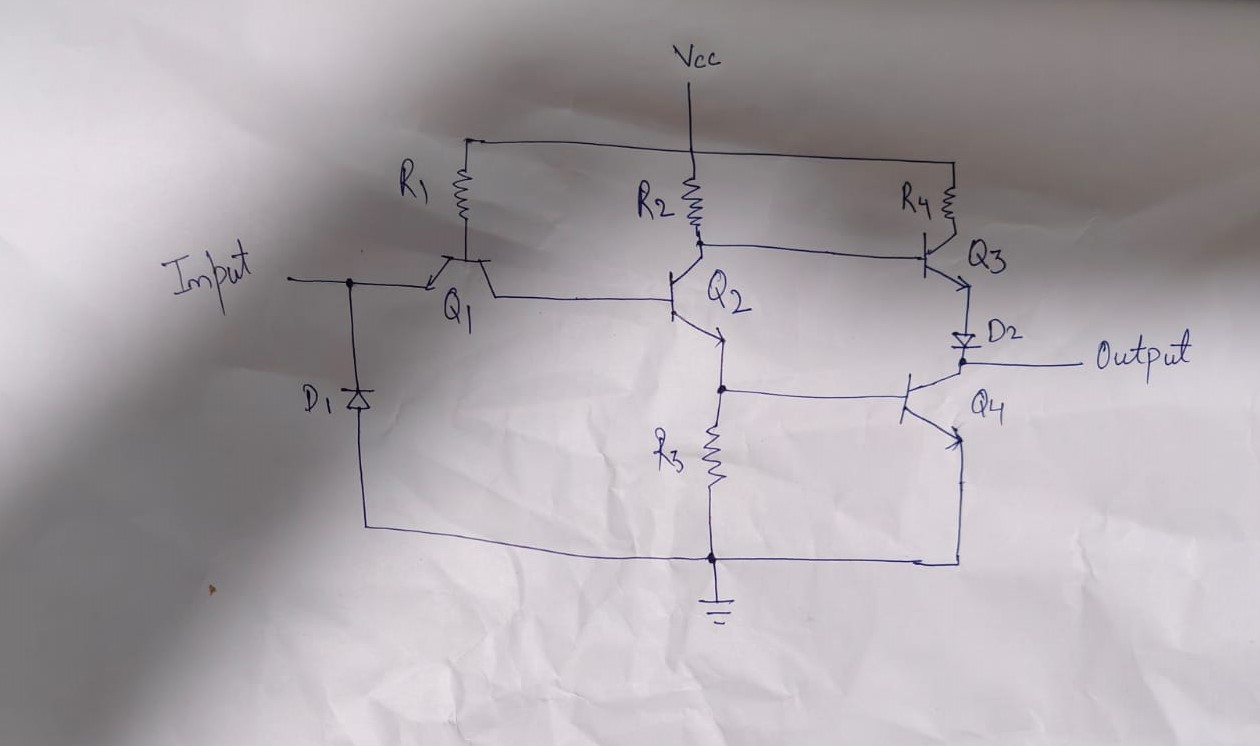crossover: (685, 144, 699, 158)
diode: (339, 386, 377, 412), (946, 328, 984, 352)
gnd: (695, 595, 739, 627)
junction: (702, 549, 720, 567), (713, 379, 731, 397), (458, 132, 476, 148), (341, 274, 357, 290), (949, 555, 965, 571), (691, 236, 707, 250), (358, 519, 372, 533), (956, 355, 970, 369), (947, 156, 959, 168)
resistor: (699, 421, 727, 489), (680, 171, 706, 229), (451, 164, 473, 220), (940, 182, 958, 222)
terminal: (278, 268, 306, 288), (1071, 355, 1087, 369), (683, 78, 696, 90)
text: (159, 235, 259, 309), (1096, 329, 1194, 379), (706, 269, 752, 317), (396, 156, 432, 208), (649, 425, 685, 477), (440, 283, 474, 335), (670, 39, 724, 71), (635, 177, 673, 221), (966, 237, 1008, 275), (896, 179, 934, 221), (969, 388, 1009, 426), (984, 315, 1024, 345), (300, 382, 334, 416)
transistor.bjt: (895, 361, 969, 445), (663, 254, 725, 342), (918, 224, 970, 294), (422, 253, 498, 300)
